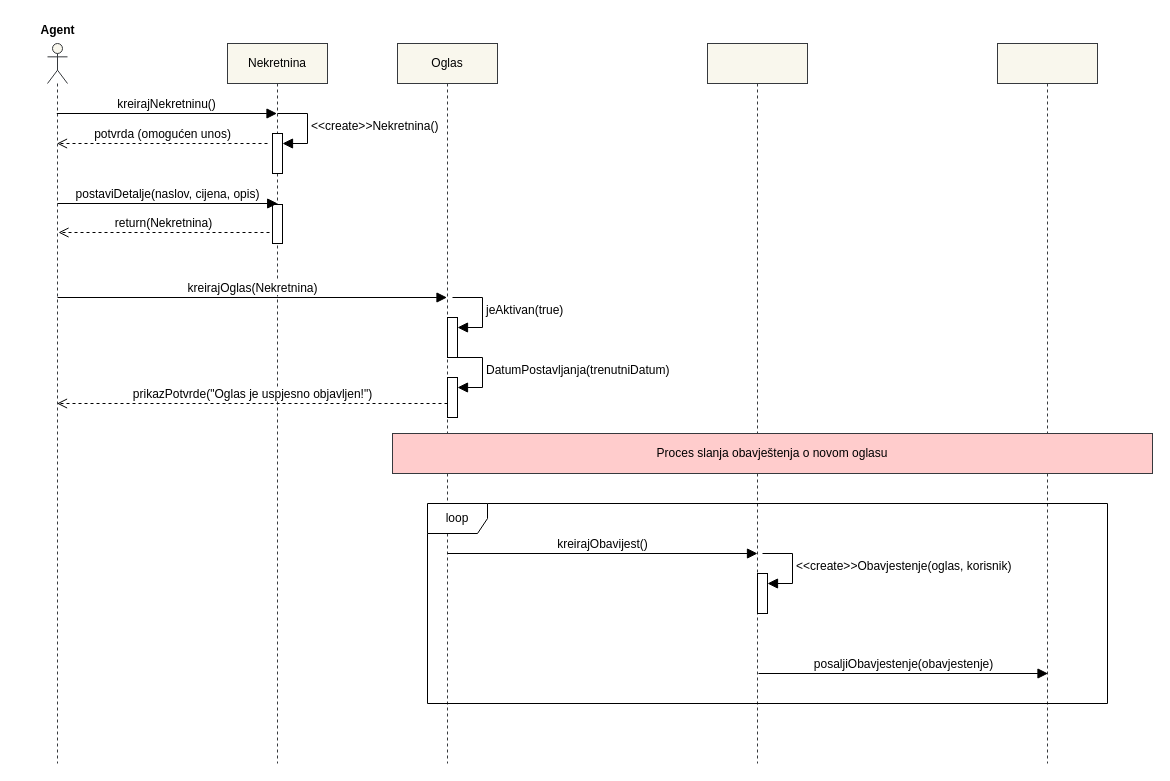
Image size: 1170x781. Some labels were removed from this diagram. Each missing label, with the box of its shape:
Korisnik: (996, 42, 1098, 764)
Obavještenje: (706, 42, 808, 764)
